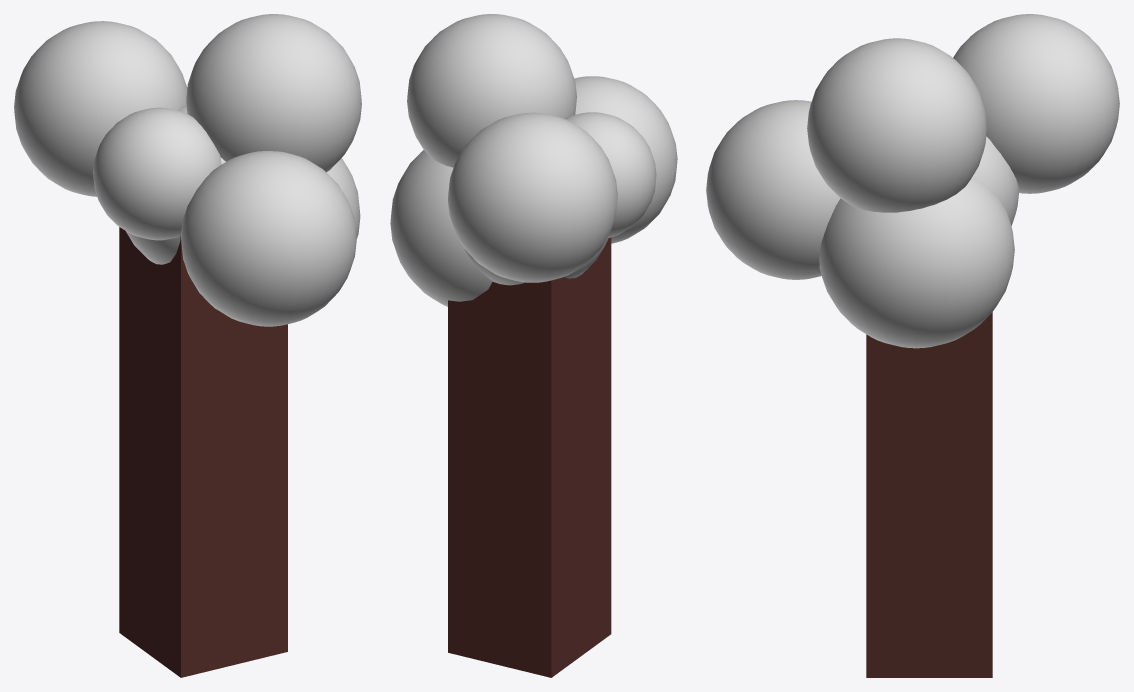
The model's file is tree.gltf.
The picture shows the model from 3 angles, left to right: view 1: azimuth 30°, elevation 25°; view 2: azimuth 150°, elevation 25°; view 3: azimuth 270°, elevation 25°; orthographic projection. The views are drawn at different scales.
Visible parts, largest first — view 1: Cube, Sphere.001, Sphere.004, Sphere.002, Sphere.005, Sphere, Sphere.003; view 2: Cube, Sphere.002, Sphere.004, Sphere.003, Sphere.001, Sphere.005, Sphere; view 3: Cube, Sphere.004, Sphere.003, Sphere.002, Sphere.001, Sphere.
Boxes of the visible parts, x1,y1,x2,y2 form: Cube: [119, 227, 287, 677]; Sphere.001: [181, 151, 356, 326]; Sphere.004: [186, 14, 361, 172]; Sphere.002: [14, 21, 187, 196]; Sphere.005: [93, 107, 221, 240]; Sphere: [126, 105, 225, 264]; Sphere.003: [326, 158, 360, 238]; Cube: [448, 237, 611, 677]; Sphere.002: [448, 112, 617, 282]; Sphere.004: [407, 14, 576, 167]; Sphere.003: [390, 150, 492, 306]; Sphere.001: [574, 76, 677, 243]; Sphere.005: [565, 112, 656, 238]; Sphere: [464, 238, 608, 285]; Cube: [866, 312, 992, 677]; Sphere.004: [807, 38, 986, 212]; Sphere.003: [819, 177, 1014, 348]; Sphere.002: [953, 14, 1119, 193]; Sphere.001: [706, 100, 840, 279]; Sphere: [972, 136, 1019, 225].
Bounding box in the file's own units: 2.24 × 4.97 × 2.95.
